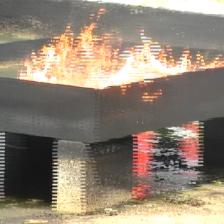fire: (18, 9, 224, 91)
